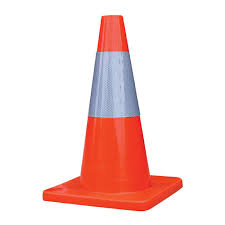cones: (37, 10, 189, 213)
